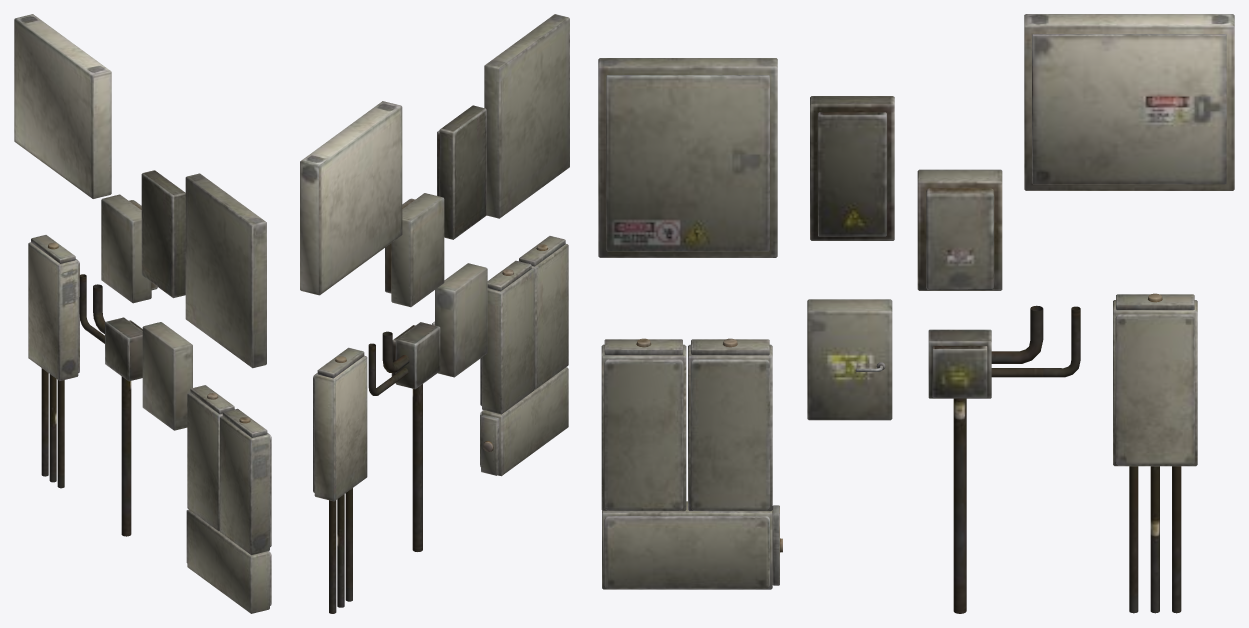
Rendered from electrical_boxes.glb.
The picture shows the model from 3 angles, left to right: view 1: azimuth 30°, elevation 25°; view 2: azimuth 150°, elevation 25°; view 3: azimuth 270°, elevation 25°; orthographic projection. The views are drawn at different scales.
Visible parts, largest first — view 1: electrical_boxes; view 2: electrical_boxes; view 3: electrical_boxes.
Part boxes in pixels (left/top/right/bottom): electrical_boxes: left=14, top=14, right=271, bottom=613; electrical_boxes: left=300, top=14, right=569, bottom=613; electrical_boxes: left=598, top=14, right=1234, bottom=613.
Size of the model in its own units: 0.1499 by 2.16 by 2.1.
1 material, 1 textured.
